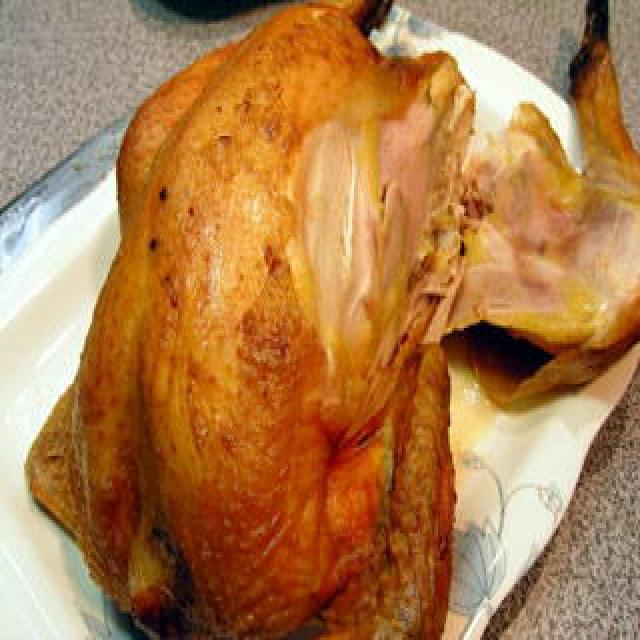Chicken: (39, 0, 453, 640)
